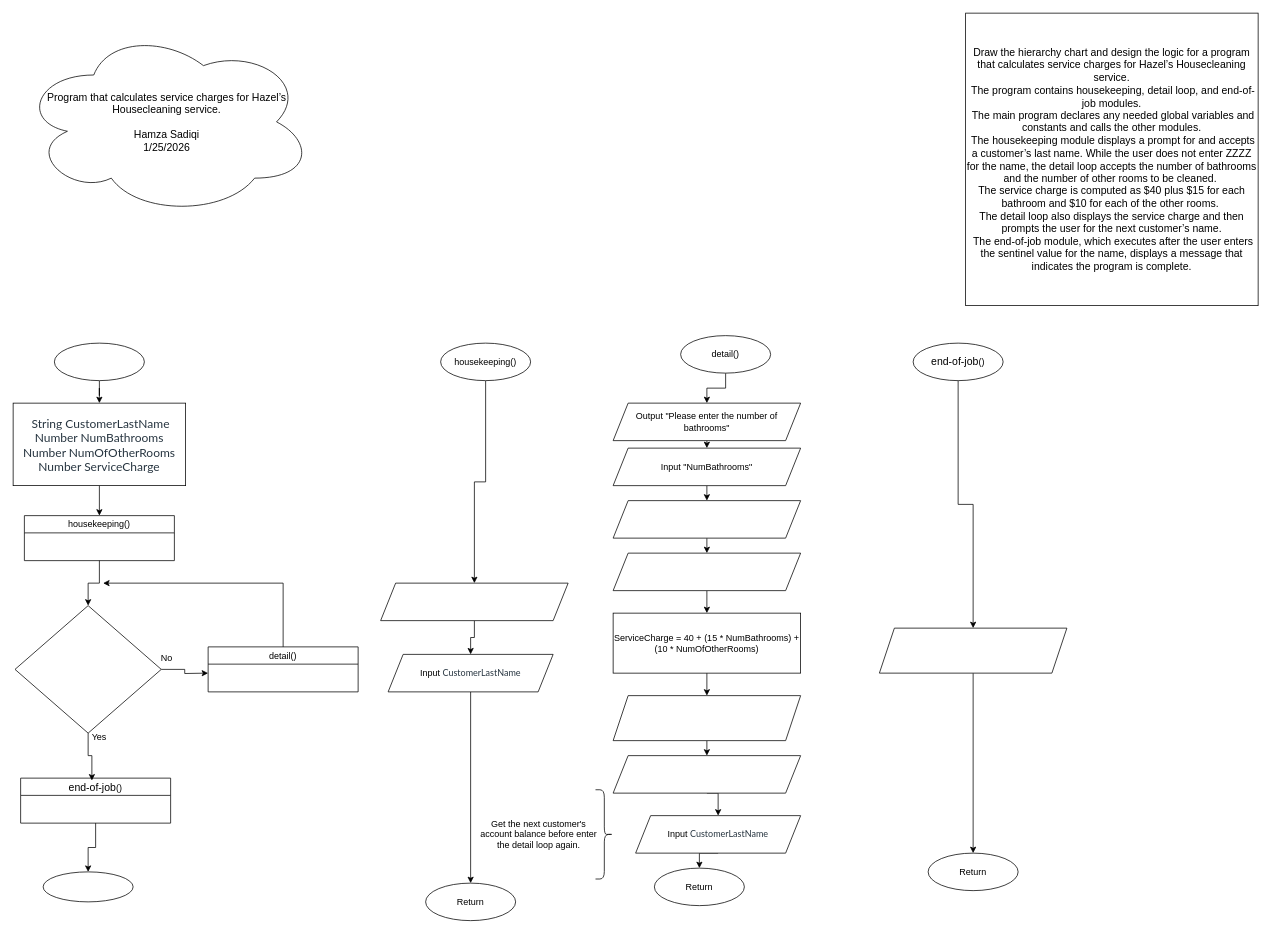
This 1271x934 diagram has some shape labels left out. The centre of each missing label's shape, as x and y in pixels:
End: point (87, 886)
Input "NumOfOtherRooms": point (706, 571)
Is CustomerLastName = "ZZZZ": point (87, 669)
Output "Please enter the customer's last name": point (474, 601)
Output "Please enter the next customer's last name. Enter 'ZZZZ' to Quit": point (706, 774)
Output "Please enter the number of other rooms": point (706, 519)
Output "Thanks for using this program.": point (973, 650)
Output "The service charge is: " ServiceCharge: point (706, 718)
Start: point (99, 361)
